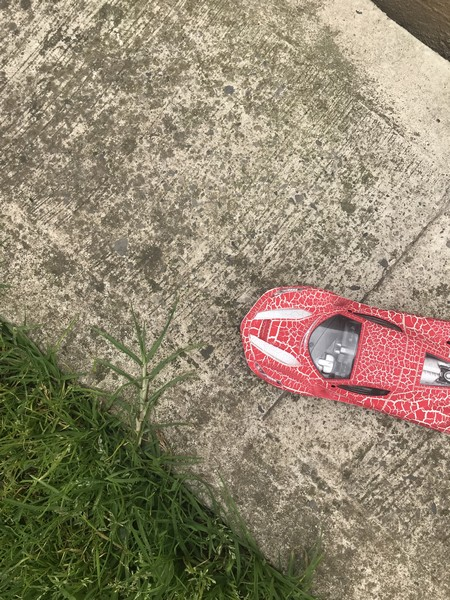RC: (240, 284, 450, 433)
